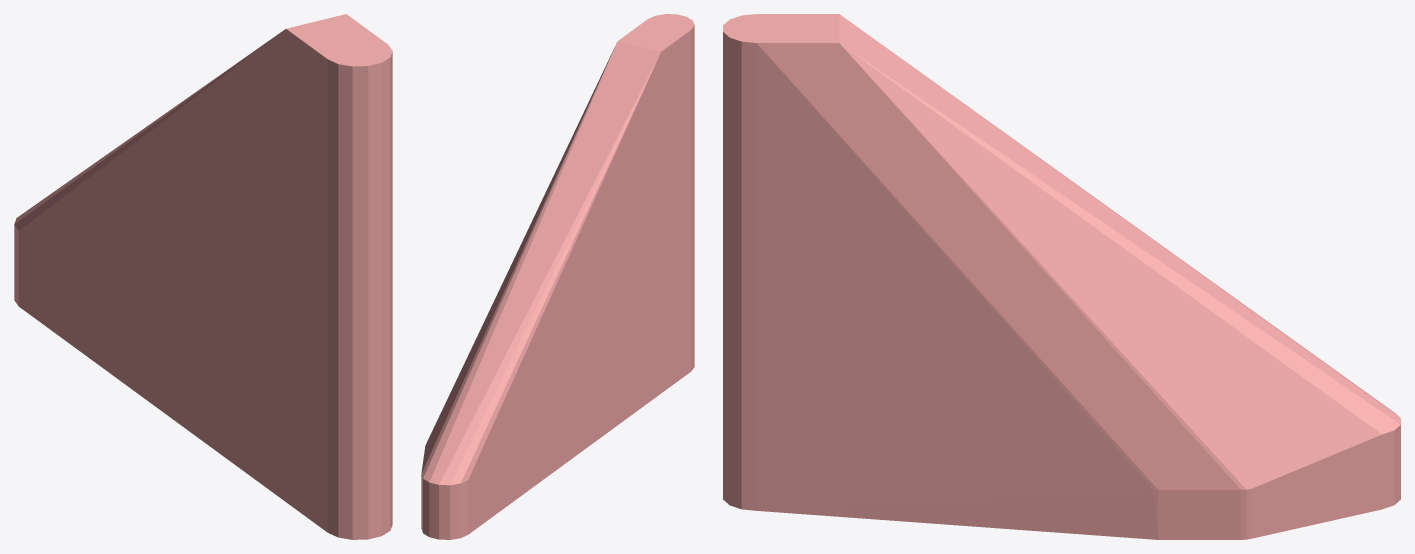
File: rambler_Brazo2dyn_coll_1.dae
3 views of the same model, side by side, from view 1: azimuth 30°, elevation 25°; view 2: azimuth 150°, elevation 25°; view 3: azimuth 270°, elevation 25° (orthographic). The views are drawn at different scales.
Visible parts, largest first — view 1: Node_0x7fe100285c80; view 2: Node_0x7fe100285c80; view 3: Node_0x7fe100285c80.
Boxes of the visible parts, x1=… form: Node_0x7fe100285c80: x1=14, y1=14, x2=392, y2=539; Node_0x7fe100285c80: x1=421, y1=14, x2=694, y2=539; Node_0x7fe100285c80: x1=723, y1=14, x2=1400, y2=539.
Bounding box in the file's own units: 0.1 × 0.3747 × 0.492.
